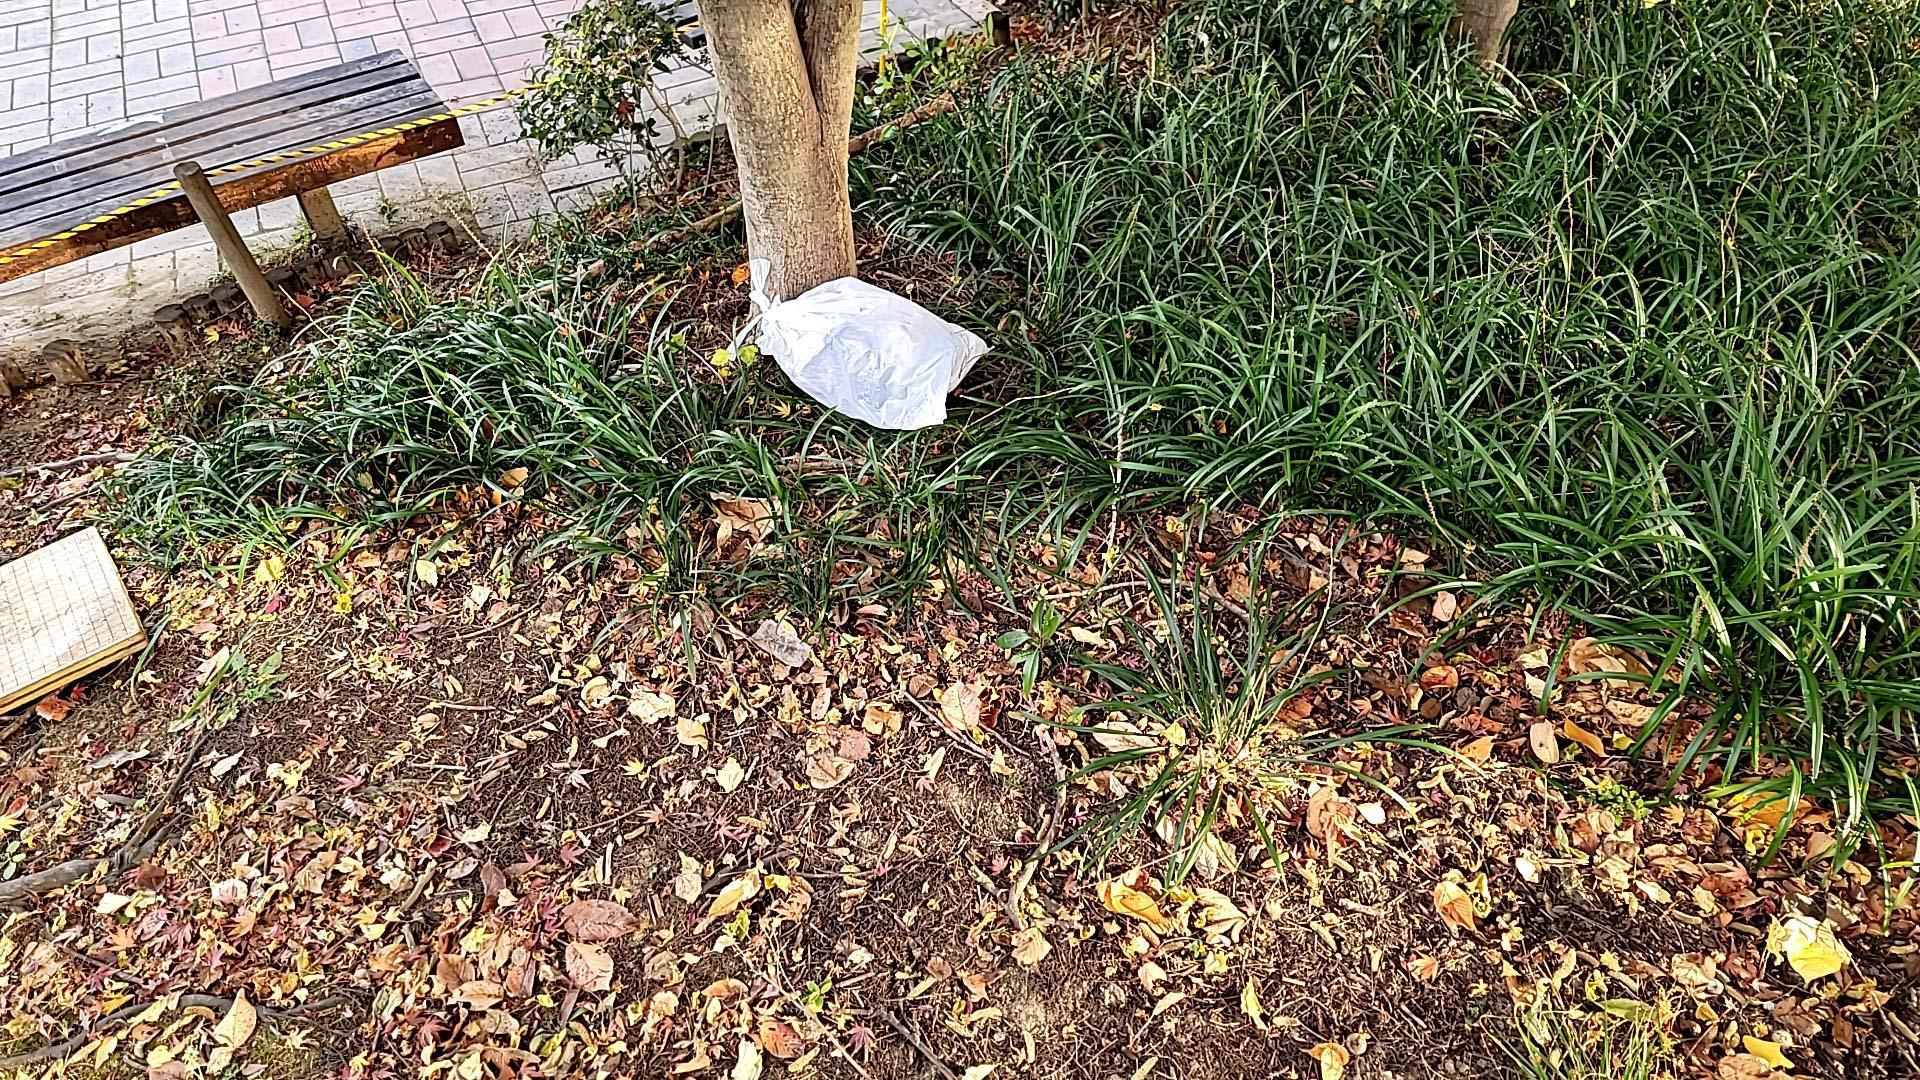white_bag: (731, 255, 993, 444)
